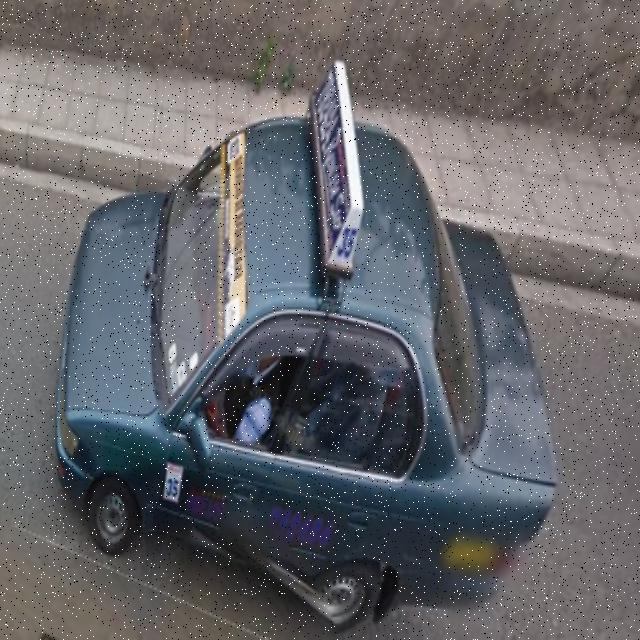cars: (69, 92, 567, 619)
